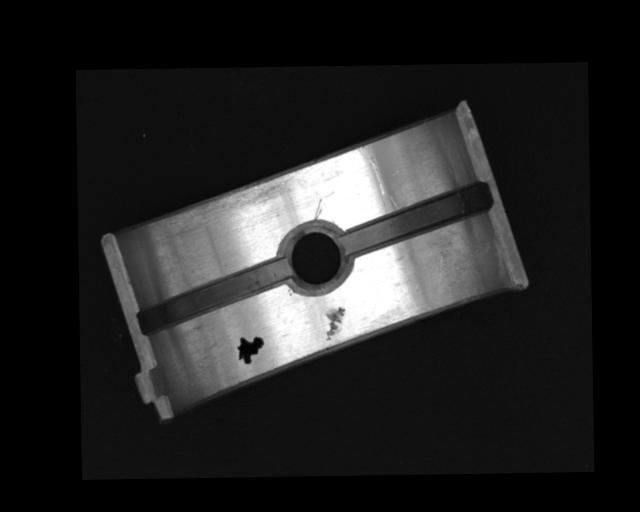blot: (236, 336, 264, 364)
bruise: (324, 306, 345, 340)
gap: (137, 257, 289, 334), (342, 184, 490, 253)
hole: (281, 222, 348, 293)
nick: (358, 145, 386, 196), (312, 197, 323, 221)
scratch: (160, 173, 293, 227)
